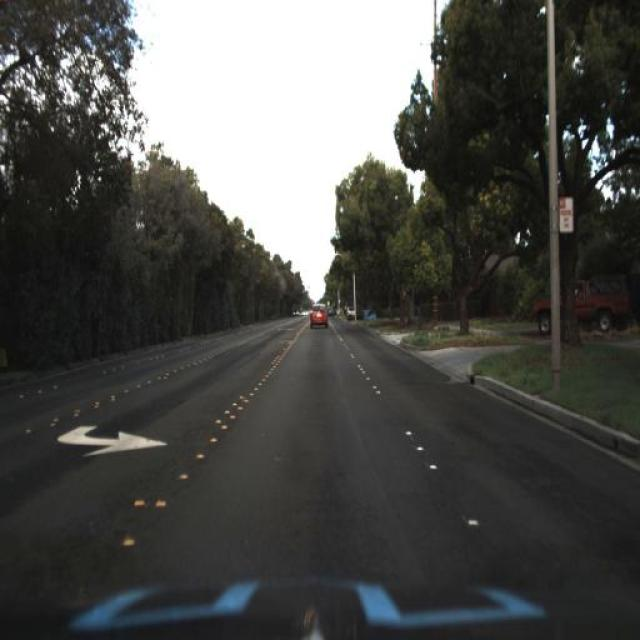car: (533, 277, 632, 341), (305, 296, 333, 340)
